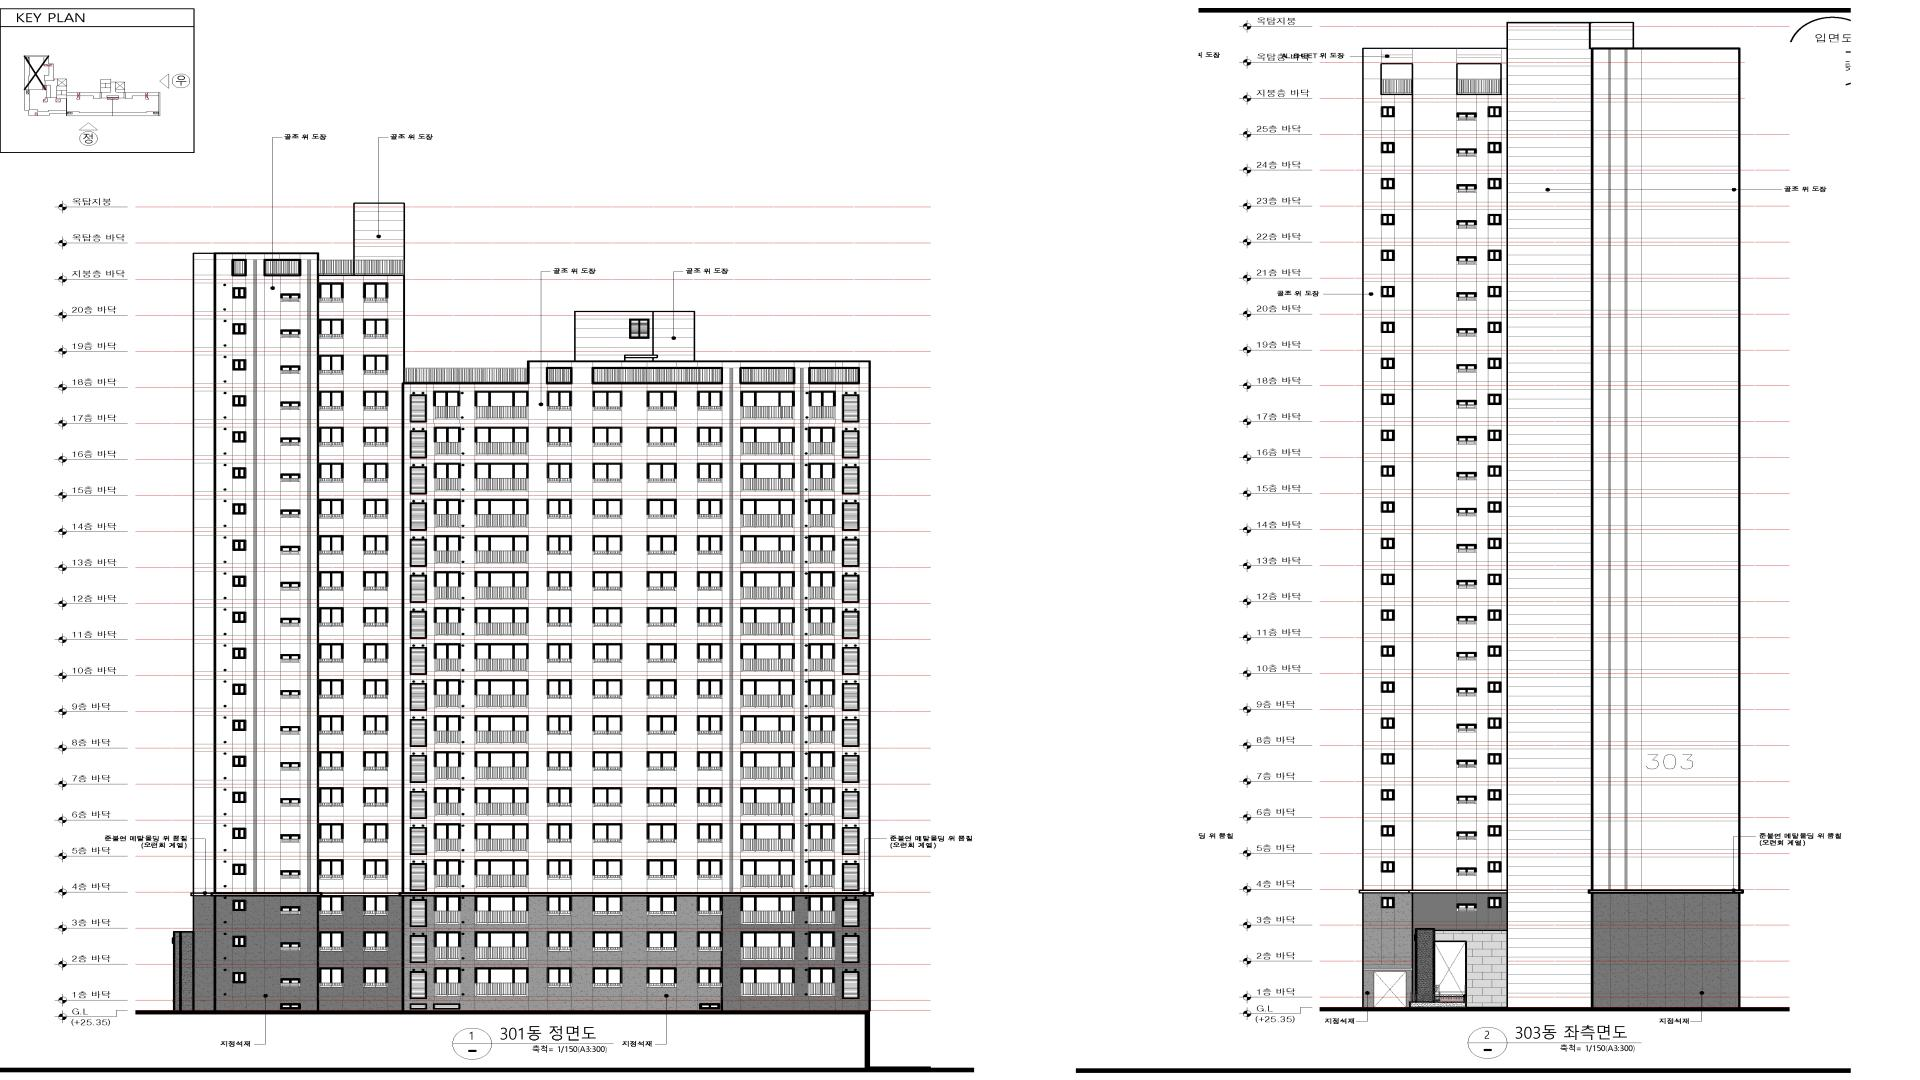door: (1434, 940, 1467, 997), (1374, 972, 1406, 1008)
wall: (173, 202, 871, 1014), (1362, 22, 1740, 1011)
window: (592, 367, 723, 384), (474, 463, 529, 492), (474, 535, 529, 564), (474, 571, 529, 600), (474, 607, 529, 636), (474, 679, 529, 708), (474, 715, 529, 744), (474, 751, 529, 780), (474, 787, 529, 816), (474, 823, 529, 852), (474, 859, 529, 888), (740, 968, 795, 997), (740, 859, 795, 888), (740, 751, 795, 780), (740, 679, 795, 708), (740, 643, 795, 672), (740, 607, 795, 636), (740, 571, 795, 600), (740, 535, 795, 564), (740, 426, 795, 455), (475, 643, 529, 672), (475, 895, 529, 924), (475, 931, 529, 960), (475, 967, 529, 996), (740, 787, 794, 816), (741, 715, 795, 744), (741, 499, 795, 528), (740, 390, 794, 419), (474, 391, 529, 419), (474, 427, 529, 455), (474, 499, 529, 527), (740, 932, 795, 960), (740, 896, 795, 924), (740, 824, 795, 852), (740, 463, 794, 491), (1456, 63, 1502, 95), (1380, 63, 1413, 95), (739, 367, 795, 384), (808, 367, 860, 384), (433, 859, 461, 889), (433, 787, 461, 817), (433, 751, 461, 781), (434, 823, 461, 853), (434, 498, 461, 528), (434, 967, 461, 996), (434, 931, 461, 960), (434, 895, 461, 924), (434, 715, 461, 744), (434, 679, 461, 708), (434, 643, 461, 672), (434, 607, 461, 636), (434, 571, 461, 600), (434, 535, 461, 564), (434, 463, 461, 492), (434, 427, 461, 456), (433, 391, 460, 420), (808, 967, 835, 996), (808, 931, 835, 960), (808, 895, 835, 924), (808, 859, 835, 888), (808, 823, 835, 852), (808, 787, 835, 816), (808, 751, 835, 780), (808, 715, 835, 744), (808, 679, 835, 708), (808, 607, 835, 636), (808, 643, 835, 672), (808, 571, 835, 600), (808, 535, 835, 564), (808, 499, 835, 528), (808, 463, 835, 492), (808, 427, 835, 456), (809, 391, 836, 420), (592, 390, 623, 411), (263, 259, 301, 276), (592, 498, 622, 519), (647, 462, 677, 483), (647, 426, 677, 447), (592, 571, 623, 591), (592, 679, 623, 699), (592, 751, 623, 771), (592, 823, 623, 843), (592, 895, 623, 915), (592, 931, 623, 951), (646, 967, 677, 987), (646, 715, 677, 735), (646, 607, 677, 627), (592, 427, 622, 447), (592, 463, 622, 483), (592, 535, 622, 555), (592, 607, 622, 627), (592, 643, 622, 663), (592, 715, 622, 735), (592, 787, 622, 807), (592, 859, 622, 879), (592, 967, 622, 987), (647, 931, 677, 951), (647, 895, 677, 915), (647, 859, 677, 879), (647, 823, 677, 843), (647, 787, 677, 807), (646, 751, 676, 771), (647, 679, 677, 699), (647, 643, 677, 663), (647, 571, 677, 591), (647, 535, 677, 555), (647, 499, 677, 519), (647, 391, 677, 411), (409, 427, 427, 459), (409, 391, 427, 423), (409, 680, 427, 711), (409, 644, 427, 675), (409, 500, 427, 531), (410, 463, 427, 495), (842, 427, 859, 459), (842, 391, 859, 423), (410, 968, 427, 999), (410, 932, 427, 963), (410, 896, 427, 927), (410, 860, 427, 891), (410, 824, 427, 855), (410, 788, 427, 819), (410, 752, 427, 783), (410, 716, 427, 747), (410, 608, 427, 639), (410, 572, 427, 603), (410, 536, 427, 567), (842, 968, 859, 999), (842, 932, 859, 963), (842, 896, 859, 927), (842, 860, 859, 891), (842, 824, 859, 855), (842, 788, 859, 819), (842, 752, 859, 783), (842, 716, 859, 747), (842, 680, 859, 711), (842, 644, 859, 675), (842, 608, 859, 639), (842, 572, 859, 603), (842, 536, 859, 567), (842, 500, 859, 531), (842, 463, 859, 494), (318, 426, 343, 447), (319, 390, 344, 411), (363, 462, 388, 483), (363, 426, 388, 447), (363, 390, 388, 411), (363, 318, 388, 339), (363, 282, 388, 303), (546, 931, 572, 951), (546, 859, 572, 879), (546, 823, 572, 843), (546, 715, 572, 735), (546, 679, 572, 699), (546, 607, 572, 627), (546, 391, 572, 411), (697, 967, 723, 987), (697, 931, 723, 951), (697, 787, 723, 807), (697, 751, 723, 771), (697, 679, 723, 699), (697, 571, 723, 591), (697, 427, 723, 447), (319, 354, 343, 375), (319, 967, 344, 987), (319, 931, 344, 951), (319, 895, 344, 915), (318, 823, 343, 843), (319, 787, 344, 807), (319, 751, 344, 771), (319, 715, 344, 735), (319, 643, 344, 663), (319, 607, 344, 627), (319, 571, 344, 591), (318, 535, 343, 555), (319, 499, 344, 519), (318, 319, 343, 339), (318, 282, 343, 302), (363, 967, 388, 987), (363, 931, 388, 951), (363, 895, 388, 915), (363, 859, 388, 879), (363, 823, 388, 843), (363, 787, 388, 807), (363, 751, 388, 771), (363, 715, 388, 735), (363, 679, 388, 699), (363, 643, 388, 663), (363, 607, 388, 627), (363, 571, 388, 591), (363, 535, 388, 555), (363, 499, 388, 519), (363, 355, 388, 375), (547, 967, 572, 987), (547, 895, 572, 915), (547, 787, 572, 807), (547, 751, 572, 771), (547, 643, 572, 663), (547, 571, 572, 591), (547, 535, 572, 555), (547, 499, 572, 519), (547, 463, 572, 483), (547, 427, 572, 447), (697, 895, 722, 915), (697, 859, 722, 879), (697, 823, 722, 843), (697, 715, 722, 735), (697, 643, 722, 663), (697, 607, 722, 627), (697, 535, 722, 555), (697, 499, 722, 519), (697, 463, 722, 483), (697, 391, 722, 411), (319, 859, 343, 879), (319, 679, 343, 699), (319, 463, 343, 483), (546, 367, 572, 384), (629, 319, 650, 339), (231, 259, 247, 277), (280, 293, 301, 302), (280, 329, 301, 338), (280, 870, 301, 879), (280, 834, 301, 843), (280, 762, 301, 771), (280, 726, 301, 735), (280, 654, 301, 663), (280, 473, 301, 482), (433, 1003, 460, 1010), (1456, 112, 1477, 121), (1456, 148, 1477, 157), (1456, 292, 1477, 301), (1456, 364, 1477, 373), (1456, 759, 1477, 768), (1456, 831, 1477, 840), (1456, 903, 1477, 912), (232, 431, 247, 443), (280, 978, 300, 987), (280, 942, 300, 951), (280, 906, 300, 915), (280, 798, 300, 807), (280, 690, 300, 699), (280, 509, 300, 518), (280, 437, 300, 446), (280, 401, 300, 410), (280, 365, 300, 374), (1487, 825, 1502, 837), (232, 719, 246, 731), (232, 539, 246, 551), (232, 503, 246, 515), (232, 467, 246, 479), (232, 395, 246, 407), (232, 359, 246, 371), (232, 323, 246, 335), (232, 287, 246, 299), (280, 618, 301, 626), (1381, 645, 1395, 657), (1381, 861, 1395, 873), (1488, 753, 1502, 765), (1456, 184, 1477, 192), (1456, 220, 1477, 228), (1456, 256, 1477, 264), (1456, 328, 1477, 336), (1456, 400, 1477, 408), (1456, 436, 1477, 444), (1456, 472, 1477, 480), (1456, 508, 1477, 516), (1456, 544, 1477, 552), (1456, 580, 1477, 588), (1456, 616, 1477, 624), (1456, 652, 1477, 660), (1456, 688, 1477, 696), (1456, 724, 1477, 732), (1456, 796, 1477, 804), (1456, 868, 1477, 876), (232, 900, 247, 911), (232, 684, 247, 695), (1380, 394, 1395, 405), (1380, 430, 1395, 441), (1380, 538, 1395, 549), (1487, 646, 1502, 657), (1487, 610, 1502, 621), (1487, 574, 1502, 585), (1487, 501, 1502, 512), (1487, 358, 1502, 369), (1487, 322, 1502, 333), (1487, 286, 1502, 297), (1487, 178, 1502, 189), (280, 582, 300, 590), (280, 546, 300, 554), (232, 972, 246, 983), (232, 936, 246, 947), (232, 864, 246, 875), (232, 828, 246, 839), (232, 792, 246, 803), (232, 756, 246, 767), (232, 648, 246, 659), (232, 612, 246, 623), (232, 576, 246, 587), (1381, 106, 1395, 117), (1381, 142, 1395, 153), (1381, 178, 1395, 189), (1381, 214, 1395, 225), (1381, 250, 1395, 261), (1381, 286, 1395, 297), (1381, 322, 1395, 333), (1381, 358, 1395, 369), (1381, 465, 1395, 476), (1381, 502, 1395, 513), (1381, 574, 1395, 585), (1381, 610, 1395, 621), (1381, 682, 1395, 693), (1381, 718, 1395, 729), (1381, 753, 1395, 764), (1381, 789, 1395, 800), (1381, 825, 1395, 836), (1381, 897, 1395, 908), (1487, 897, 1501, 908), (1488, 861, 1502, 872), (1488, 789, 1502, 800), (1487, 718, 1501, 729), (1488, 681, 1502, 692), (1487, 538, 1501, 549), (1487, 465, 1501, 476), (1488, 430, 1502, 441), (1488, 394, 1502, 405), (1488, 250, 1502, 261), (1488, 214, 1502, 225), (1488, 142, 1502, 153), (1488, 106, 1502, 117), (280, 1003, 301, 1010), (410, 1003, 427, 1010)
